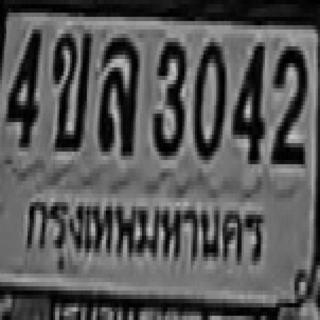A02: (51, 29, 89, 148)
A36: (97, 34, 138, 147)
N00: (193, 38, 225, 156)
N02: (269, 42, 305, 160)
N03: (150, 38, 184, 152)
N04: (5, 25, 39, 143), (231, 38, 263, 160)
P04: (20, 183, 269, 284)
